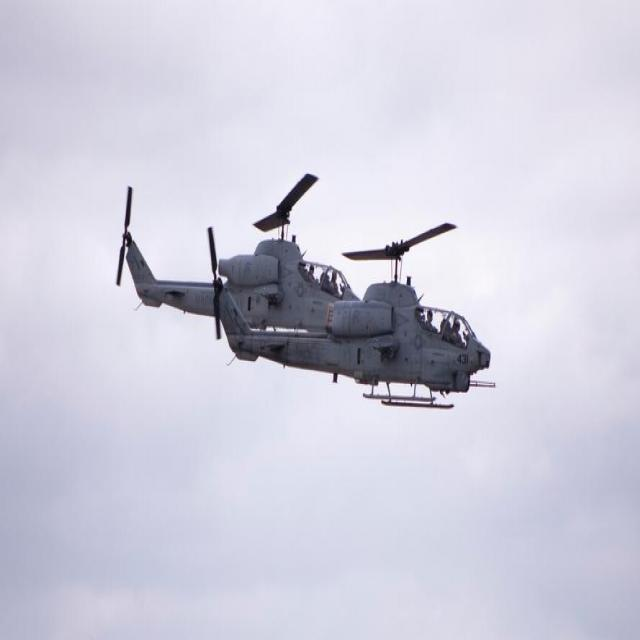MIL_HELO: (194, 215, 504, 420), (92, 162, 364, 356)
